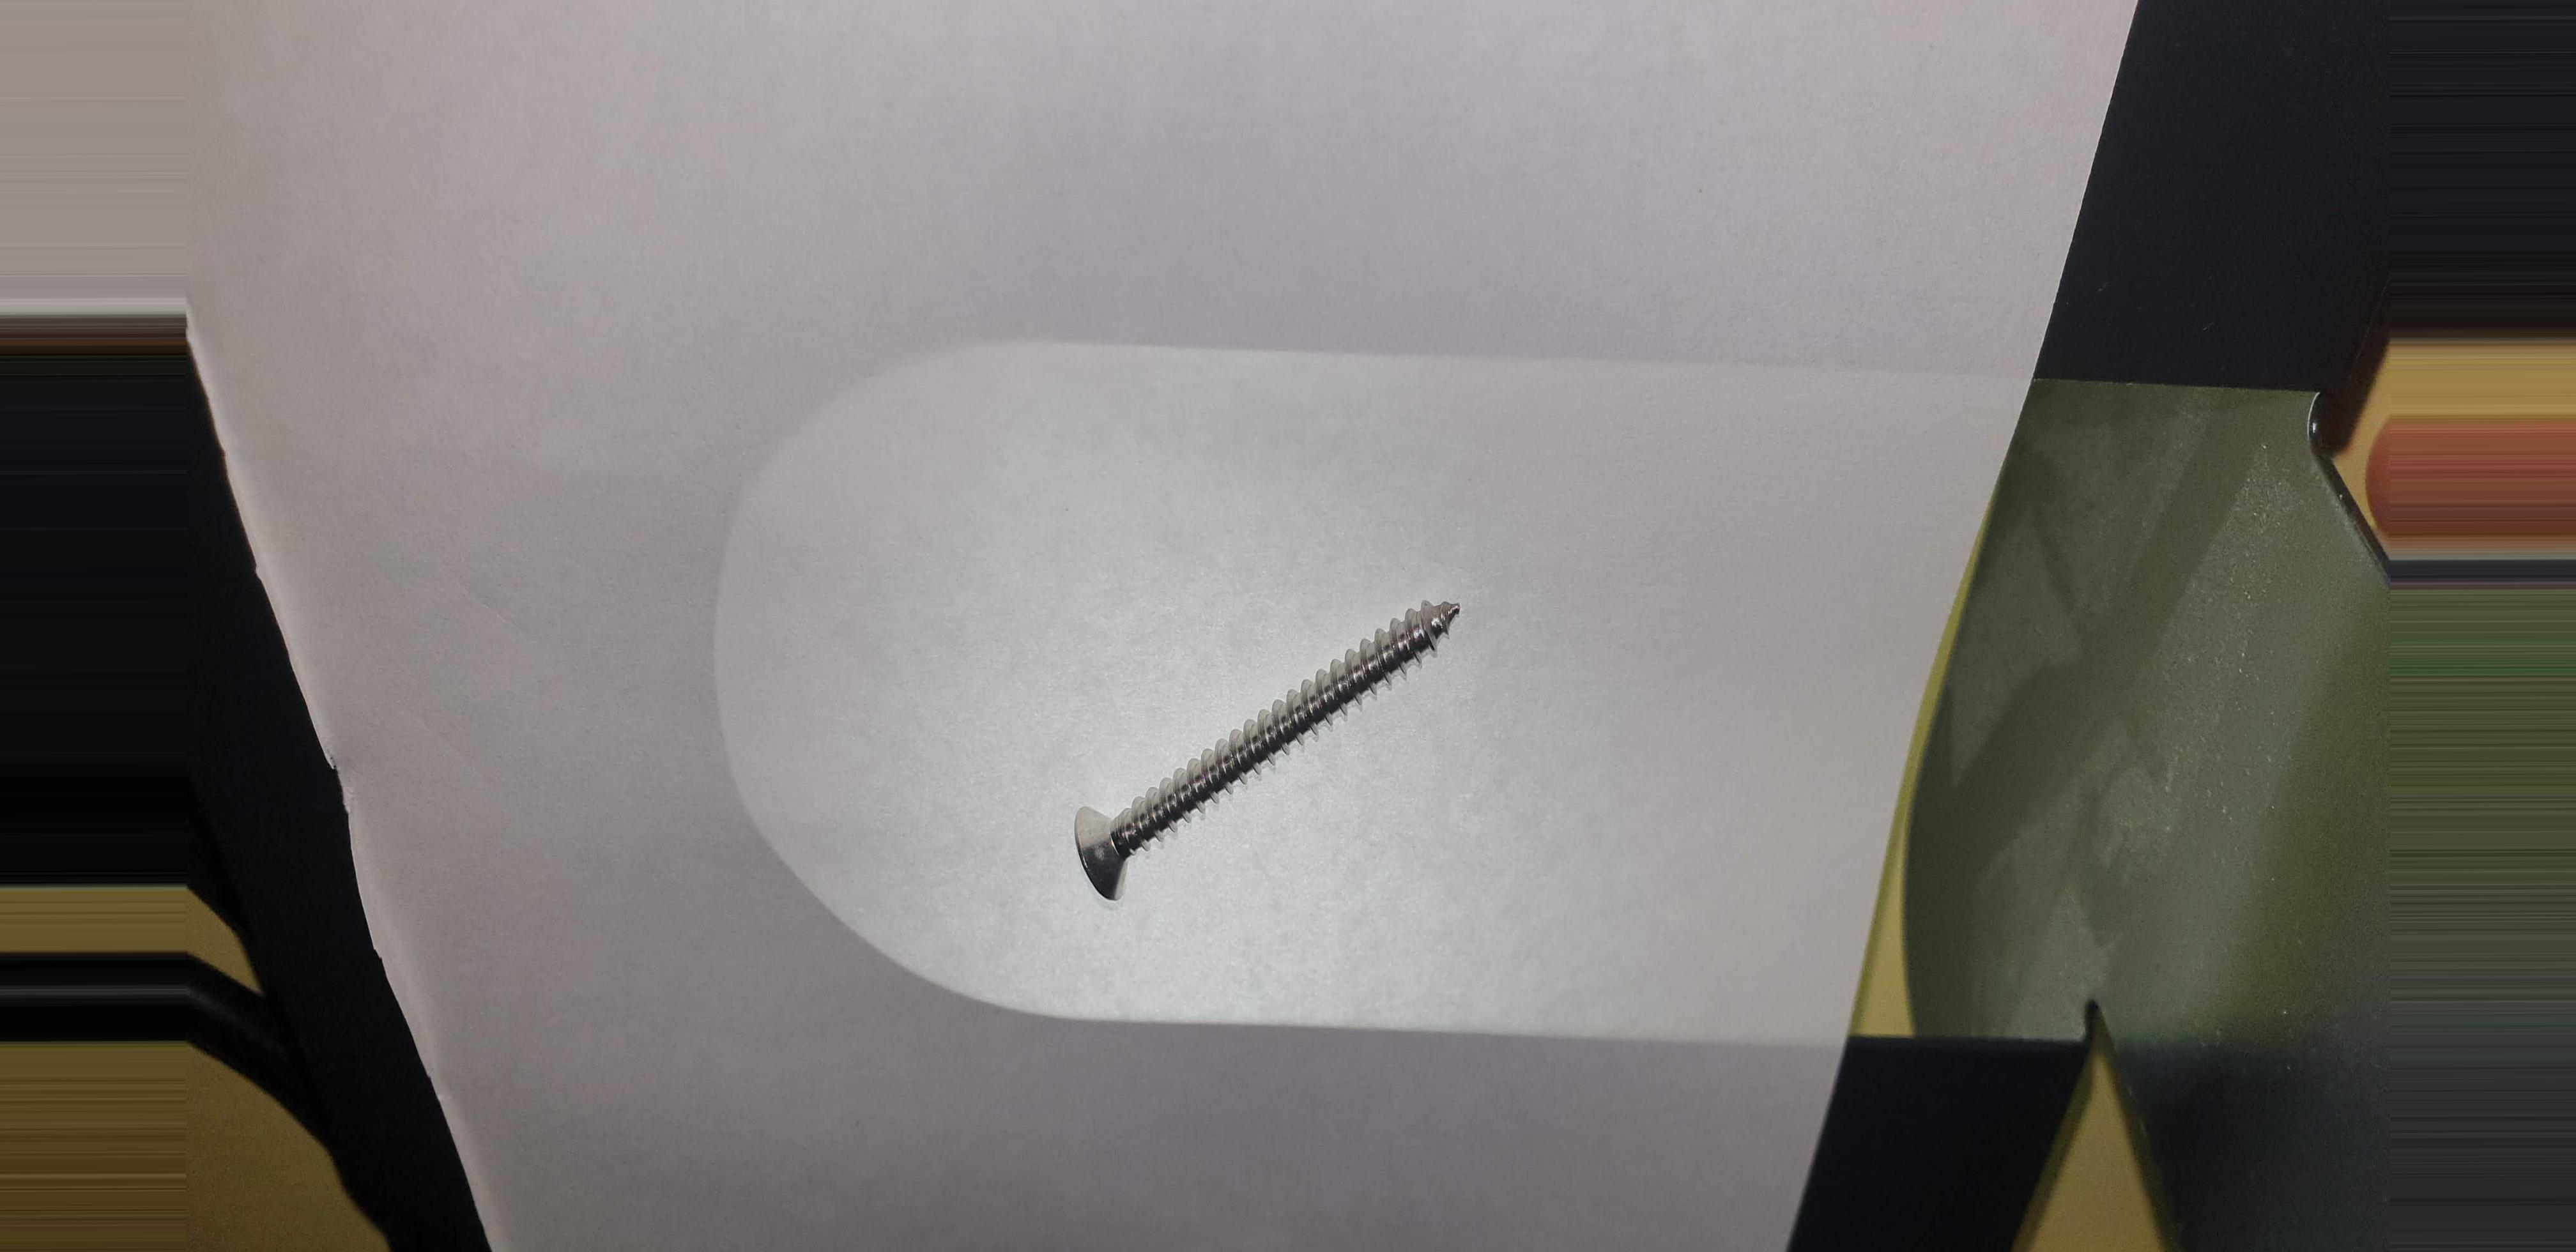fastener: (1014, 567, 1526, 923)
